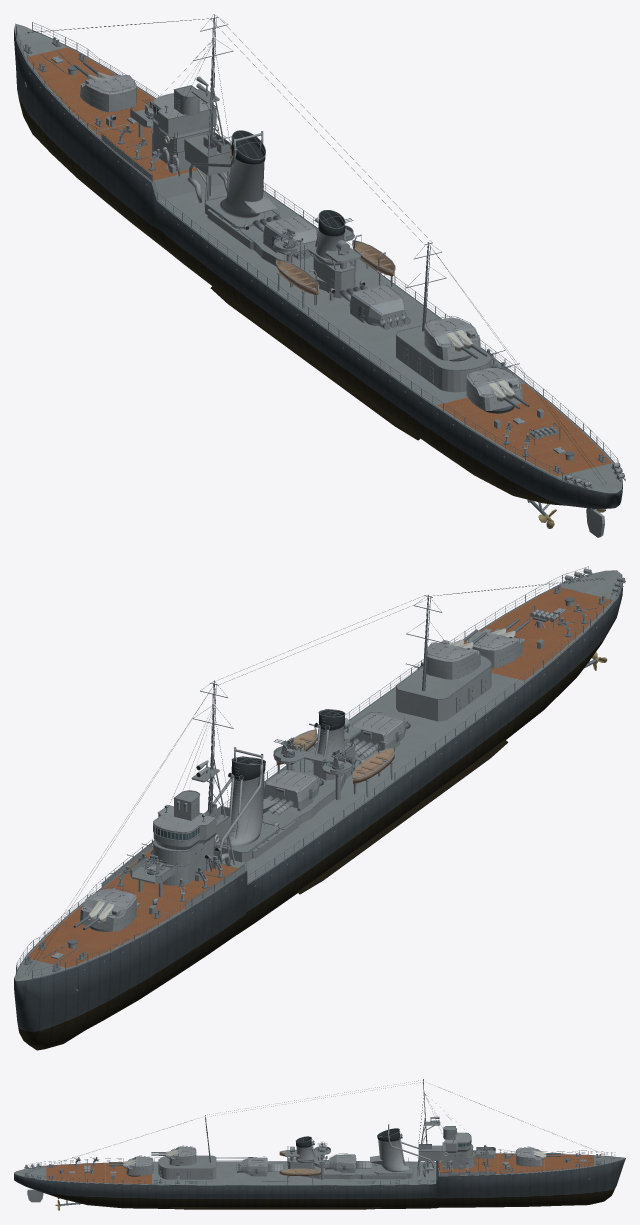
Rendered from yukikaze.glb.
3 renders of one model, top to bottom at view 1: azimuth 30°, elevation 25°; view 2: azimuth 150°, elevation 25°; view 3: azimuth 270°, elevation 25°, orthographic. The views are drawn at different scales.
Parts seen in each view (by area): view 1: hull.envelope, deck.mesh, forward-funnel.mesh, hull.mesh, rails.mesh, after-deckhouse.mesh, bridge.mesh, torpedo-aft.yaw.mesh, boat.mesh, main-1.yaw.mesh, main-2.yaw.mesh, main-3.yaw.mesh (+10 smaller); view 2: hull.envelope, deck.mesh, after-deckhouse.mesh, bridge.mesh, forward-funnel.mesh, hull.mesh, rails.mesh, torpedo-forward.yaw.mesh, torpedo-aft.yaw.mesh, main-2.yaw.mesh, main-1.yaw.mesh, wheelhouse.mesh (+11 smaller); view 3: hull.envelope, deck.mesh, hull.mesh, after-deckhouse.mesh, forward-funnel.mesh, rails.mesh, bridge.mesh, torpedo-aft.yaw.mesh, torpedo-forward.yaw.mesh, torpedo-working-deck.mesh, main-2.yaw.mesh, main-3.yaw.mesh (+13 smaller).
Boxes of the visible parts, x1=… form: hull.envelope: x1=14, y1=29, x2=622, y2=509; deck.mesh: x1=14, y1=23, x2=622, y2=493; forward-funnel.mesh: x1=220, y1=130, x2=276, y2=220; hull.mesh: x1=16, y1=30, x2=621, y2=488; rails.mesh: x1=16, y1=22, x2=622, y2=488; after-deckhouse.mesh: x1=395, y1=325, x2=491, y2=392; bridge.mesh: x1=101, y1=40, x2=263, y2=202; torpedo-aft.yaw.mesh: x1=339, y1=284, x2=410, y2=329; boat.mesh: x1=275, y1=234, x2=395, y2=308; main-1.yaw.mesh: x1=80, y1=74, x2=136, y2=112; main-2.yaw.mesh: x1=424, y1=316, x2=480, y2=360; main-3.yaw.mesh: x1=466, y1=366, x2=522, y2=410; hull.envelope: x1=14, y1=584, x2=622, y2=1050; deck.mesh: x1=14, y1=570, x2=622, y2=980; after-deckhouse.mesh: x1=395, y1=654, x2=491, y2=721; bridge.mesh: x1=101, y1=708, x2=262, y2=909; forward-funnel.mesh: x1=223, y1=747, x2=276, y2=847; hull.mesh: x1=16, y1=574, x2=618, y2=978; rails.mesh: x1=16, y1=566, x2=622, y2=978; torpedo-forward.yaw.mesh: x1=263, y1=769, x2=324, y2=815; torpedo-aft.yaw.mesh: x1=350, y1=712, x2=410, y2=758; main-2.yaw.mesh: x1=425, y1=640, x2=480, y2=679; main-1.yaw.mesh: x1=80, y1=887, x2=136, y2=931; wheelhouse.mesh: x1=153, y1=806, x2=216, y2=849; hull.envelope: x1=14, y1=1158, x2=625, y2=1208; deck.mesh: x1=14, y1=1153, x2=625, y2=1185; hull.mesh: x1=27, y1=1153, x2=616, y2=1209; after-deckhouse.mesh: x1=158, y1=1155, x2=216, y2=1179; forward-funnel.mesh: x1=370, y1=1124, x2=410, y2=1171; rails.mesh: x1=25, y1=1149, x2=615, y2=1184; bridge.mesh: x1=388, y1=1093, x2=495, y2=1177; torpedo-aft.yaw.mesh: x1=236, y1=1156, x2=283, y2=1176; torpedo-forward.yaw.mesh: x1=325, y1=1153, x2=371, y2=1172; torpedo-working-deck.mesh: x1=301, y1=1163, x2=377, y2=1179; main-2.yaw.mesh: x1=169, y1=1145, x2=196, y2=1165; main-3.yaw.mesh: x1=126, y1=1155, x2=153, y2=1175.
Bounding box in the file's own units: 11.26 × 26.85 × 118.
Materials: 13 (8 with a texture image).
